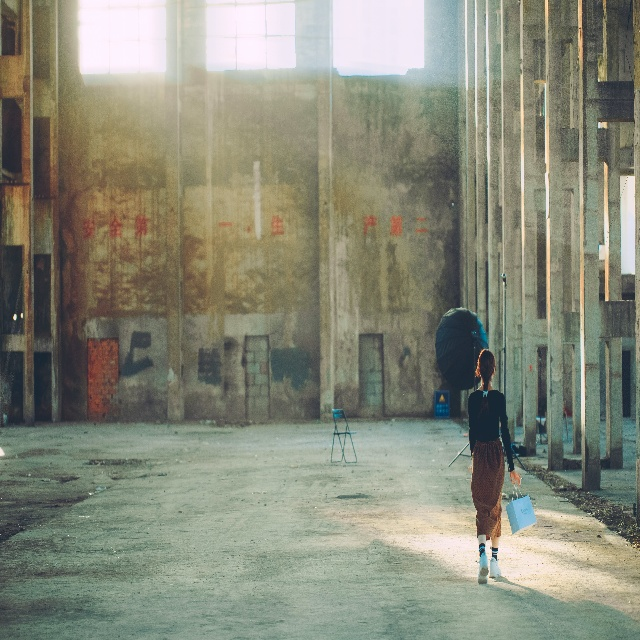Sin_guantes: (510, 468, 522, 487)
